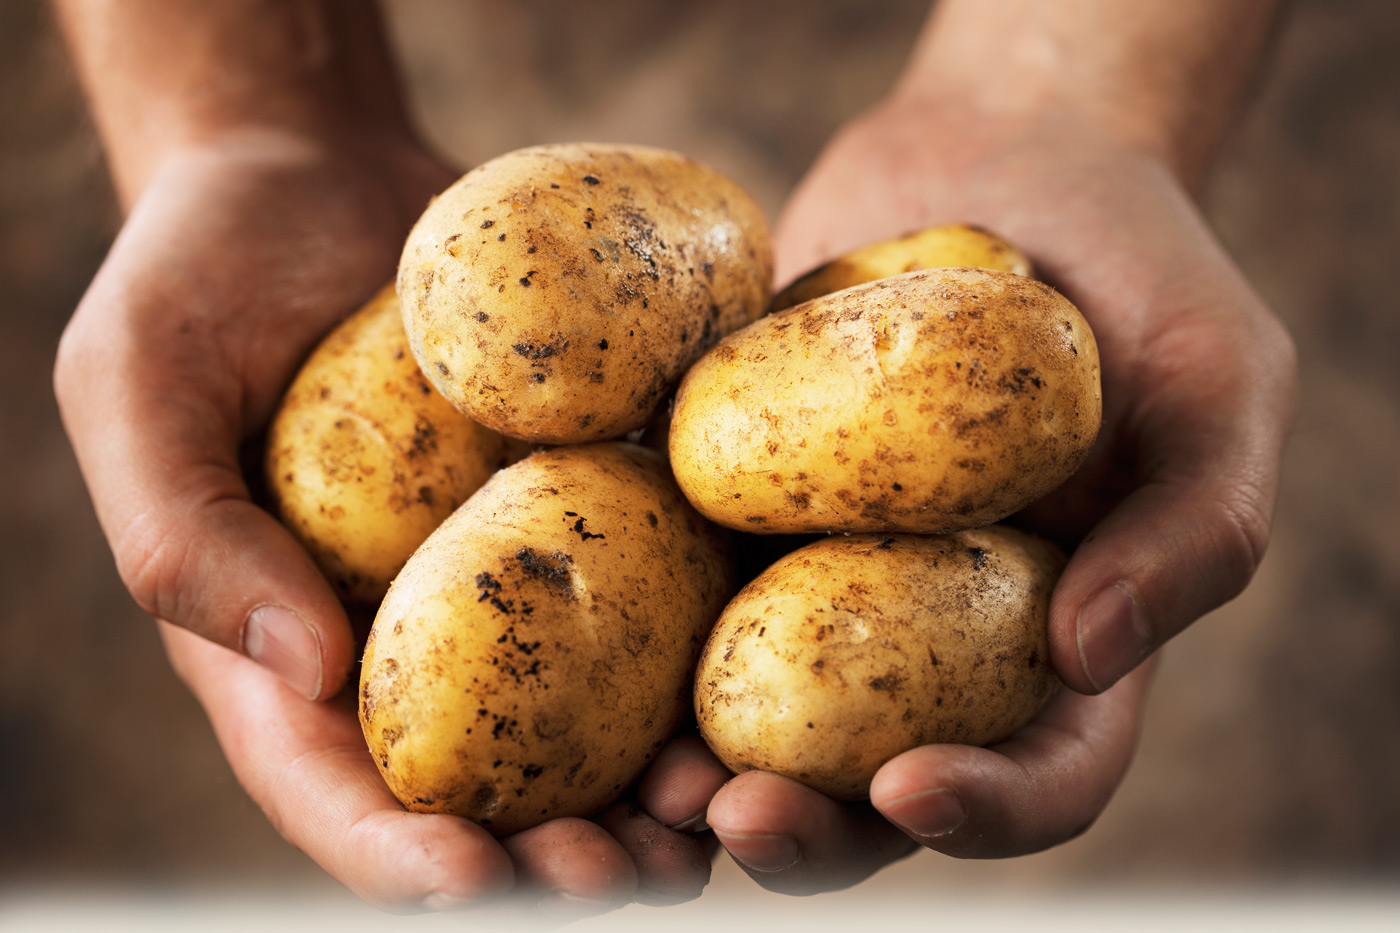boiled potatoes: (630, 260, 1111, 533), (343, 447, 703, 807), (380, 134, 770, 450), (666, 514, 1083, 779)
